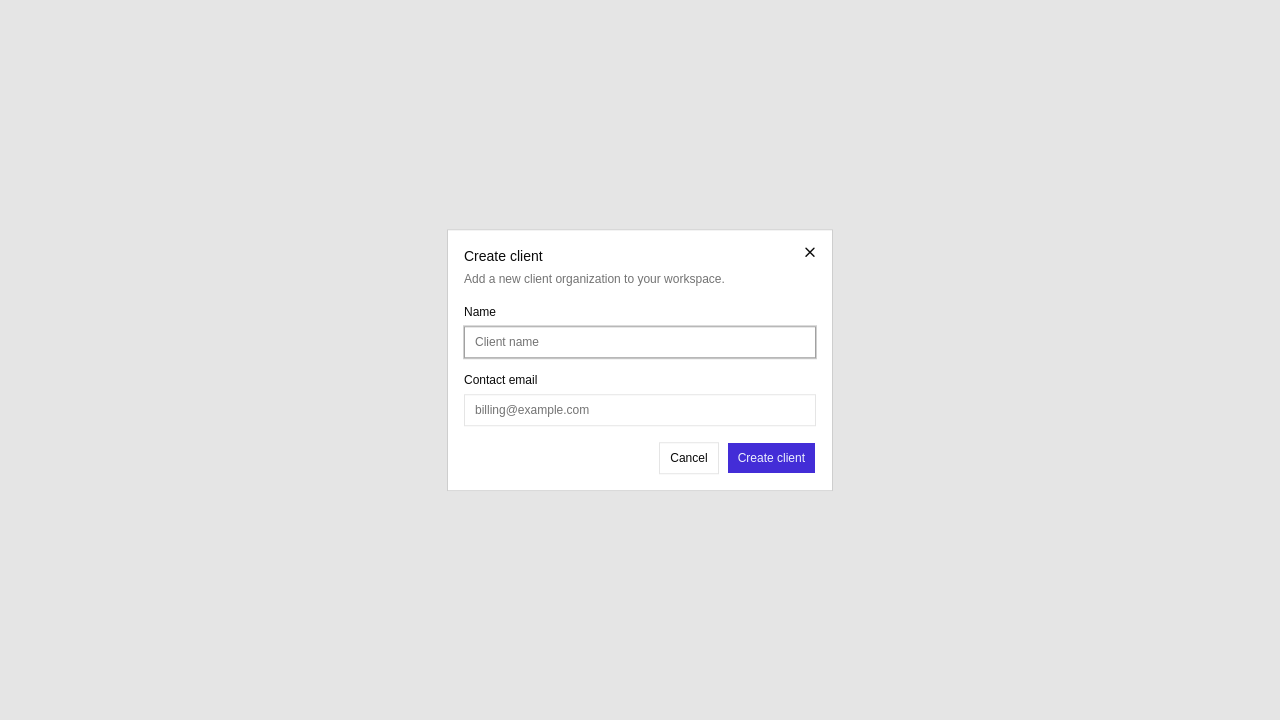
Test: ClientFormDialog › maps 422 validation errors to form fields
Step 1. Type "Duplicate Client" into the field labelled "Name" → coordinates (640, 342), box left=464, top=326, right=816, bottom=358
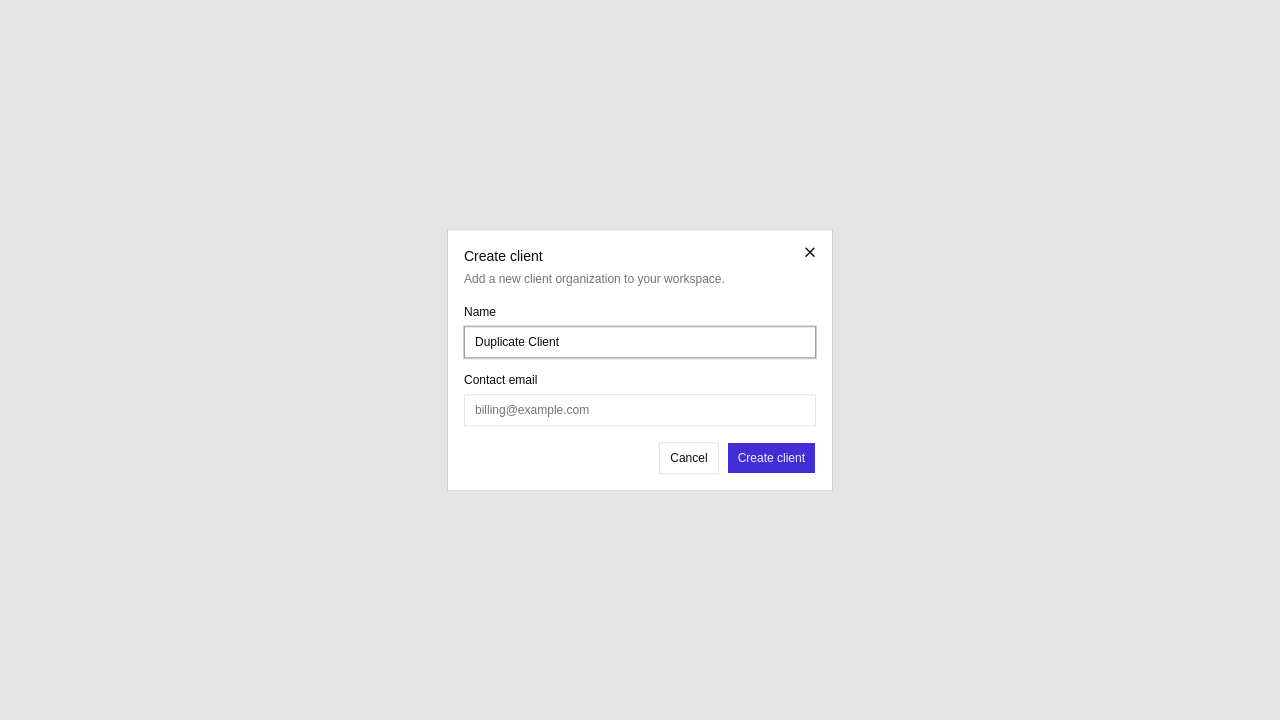
Step 2. Click the button "Create client" → coordinates (771, 458), box left=727, top=442, right=816, bottom=474
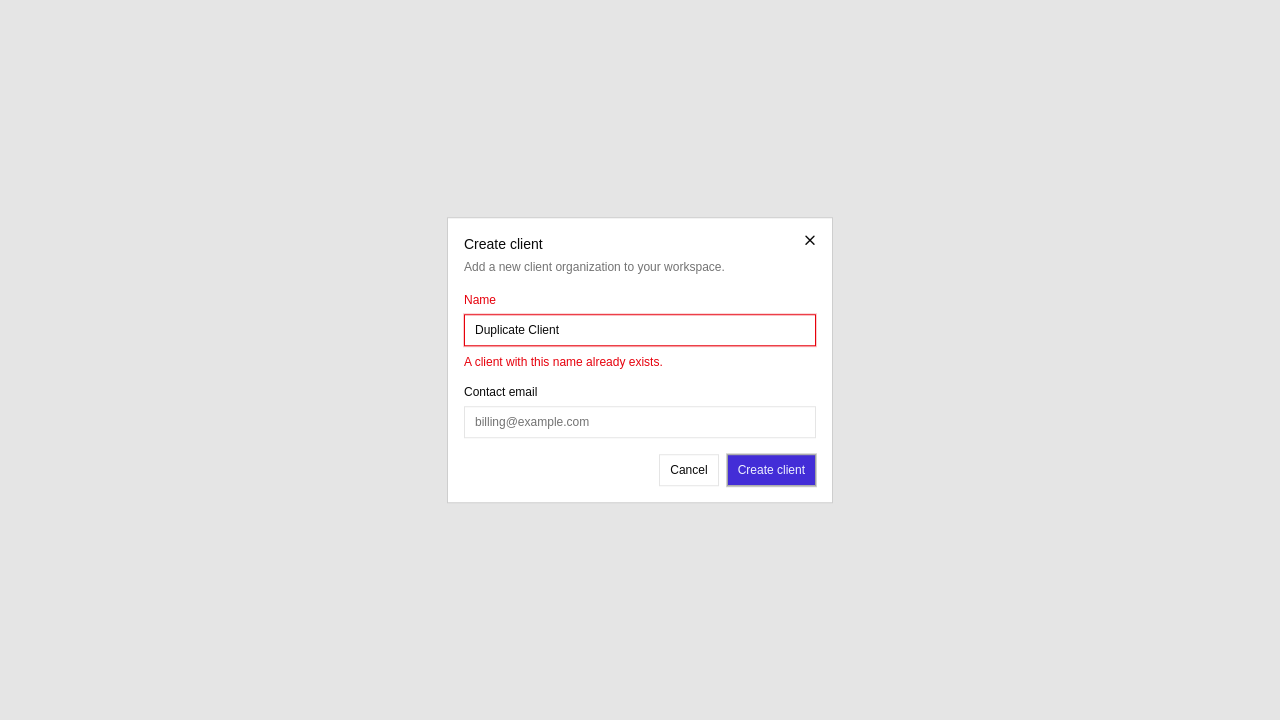
expect the text "A client with this name already exists." is shown: met, box left=464, top=355, right=663, bottom=369
